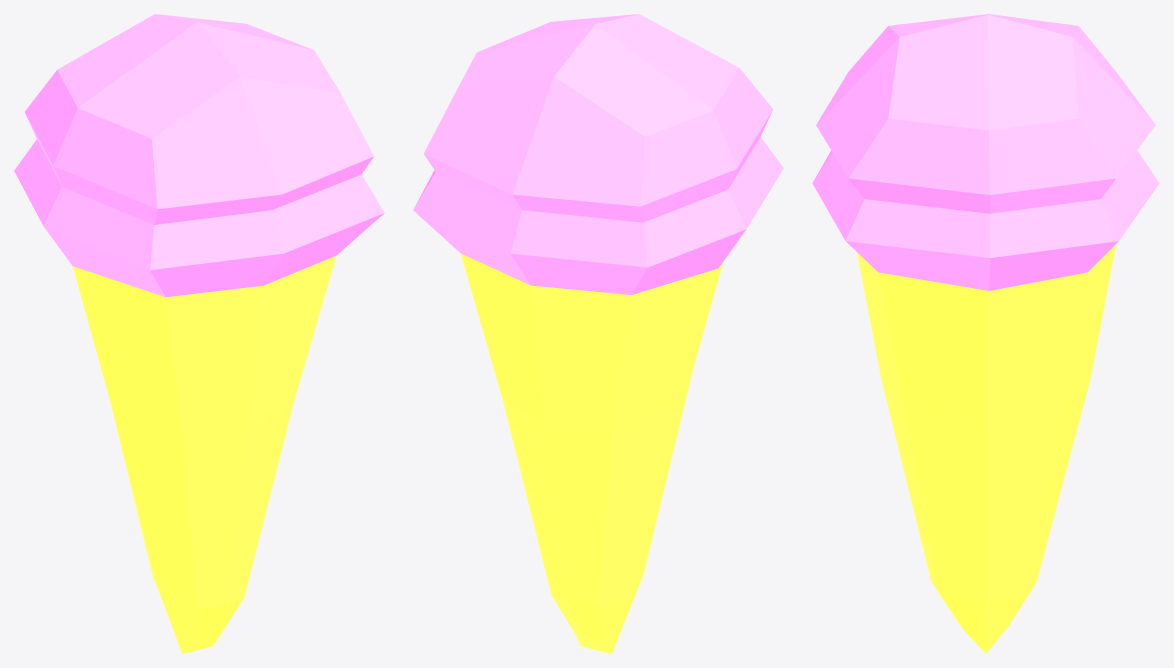
File: Cone Ice Cream.fbx
The picture shows the model from 3 angles, left to right: view 1: azimuth 30°, elevation 25°; view 2: azimuth 150°, elevation 25°; view 3: azimuth 270°, elevation 25°; orthographic projection.
Parts seen in each view (by area): view 1: Cube; view 2: Cube; view 3: Cube.
Boxes of the visible parts, bbox=[...] form: Cube: bbox=[14, 14, 384, 653]; Cube: bbox=[413, 14, 783, 653]; Cube: bbox=[812, 14, 1159, 653].
Size of the model in its own units: 109 by 215 by 107.
